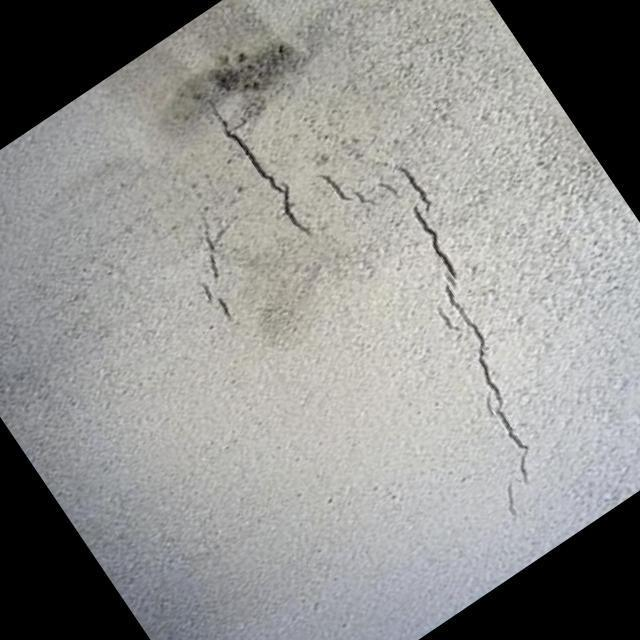defect: (314, 162, 533, 521), (204, 97, 314, 236), (196, 228, 238, 327)
